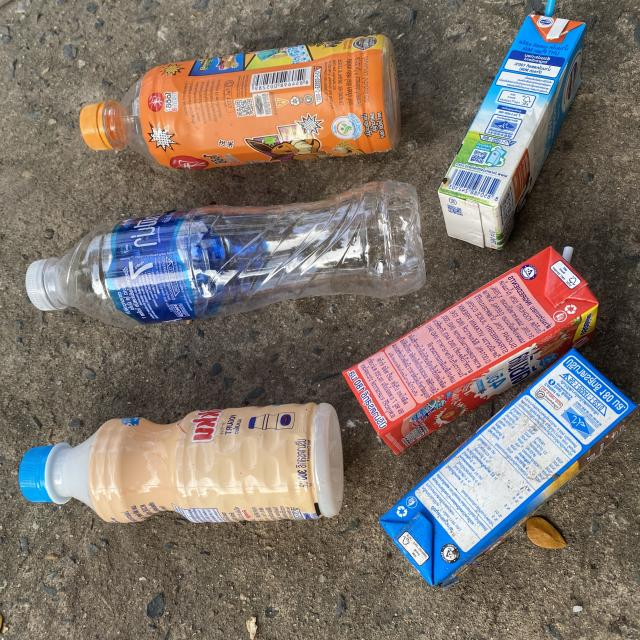plastik: (380, 349, 637, 586), (26, 181, 426, 326), (343, 247, 598, 453), (80, 35, 400, 169), (18, 403, 344, 522), (438, 15, 585, 250)
